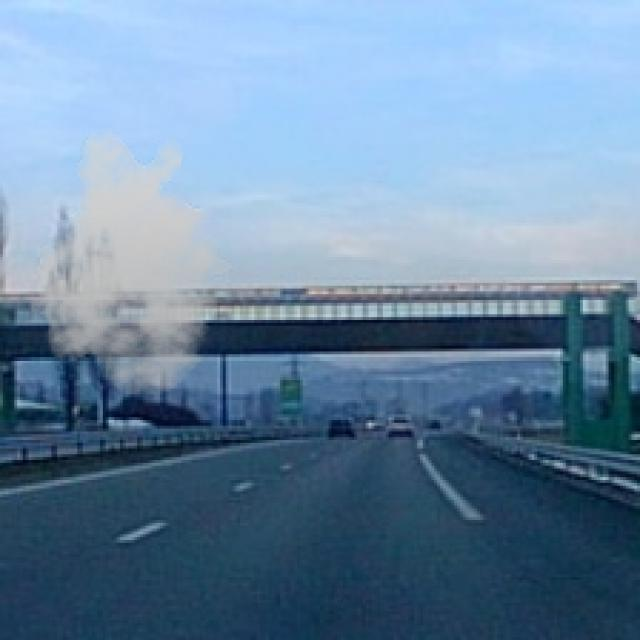smoke: (23, 129, 243, 397)
